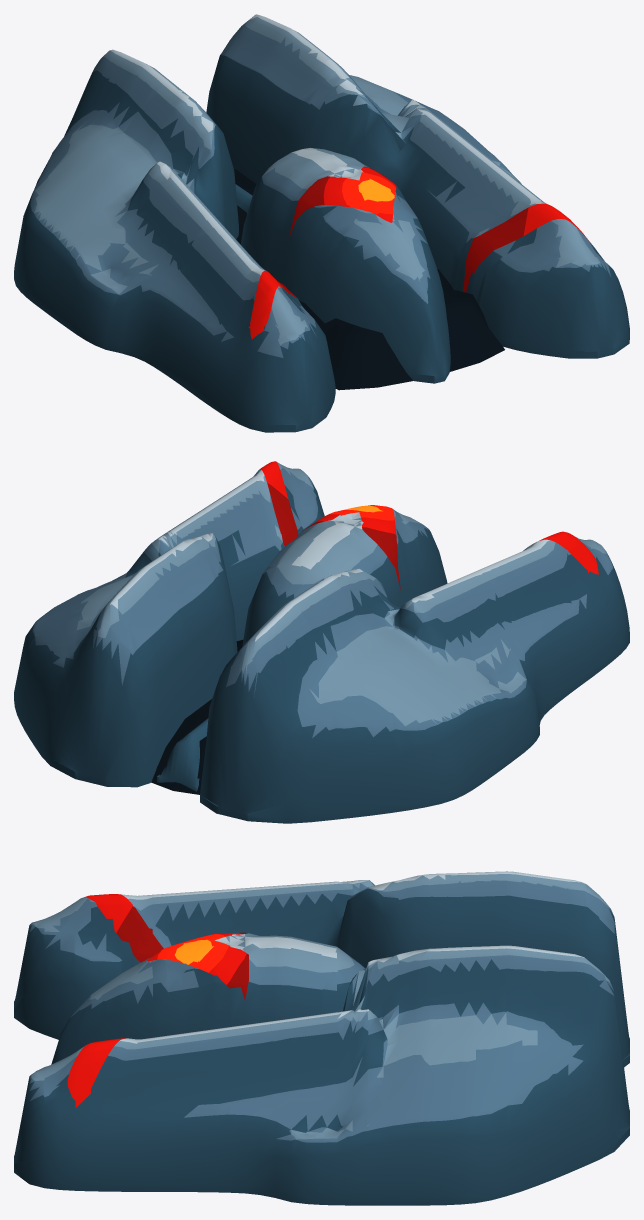
The model's file is botany_beetle.glb.
3 renders of one model, top to bottom at view 1: azimuth 30°, elevation 25°; view 2: azimuth 150°, elevation 25°; view 3: azimuth 270°, elevation 25°, orthographic. The views are drawn at different scales.
Visible parts, largest first — view 1: case_l, case_r, tail, floor; view 2: case_l, case_r, tail, floor; view 3: case_r, case_l, tail.
Boxes of the visible parts, left/top/right/bottom form: case_l: left=14, top=49, right=335, bottom=432; case_r: left=206, top=14, right=629, bottom=358; tail: left=235, top=148, right=450, bottom=383; floor: left=234, top=169, right=504, bottom=390; case_l: left=200, top=531, right=629, bottom=823; case_r: left=14, top=461, right=324, bottom=787; tail: left=157, top=505, right=447, bottom=791; floor: left=151, top=639, right=243, bottom=794; case_r: left=14, top=945, right=629, bottom=1205; case_l: left=14, top=871, right=629, bottom=1067; tail: left=51, top=932, right=365, bottom=1064.
Size of the model in its own units: 15.68 by 7.6 by 17.78.
